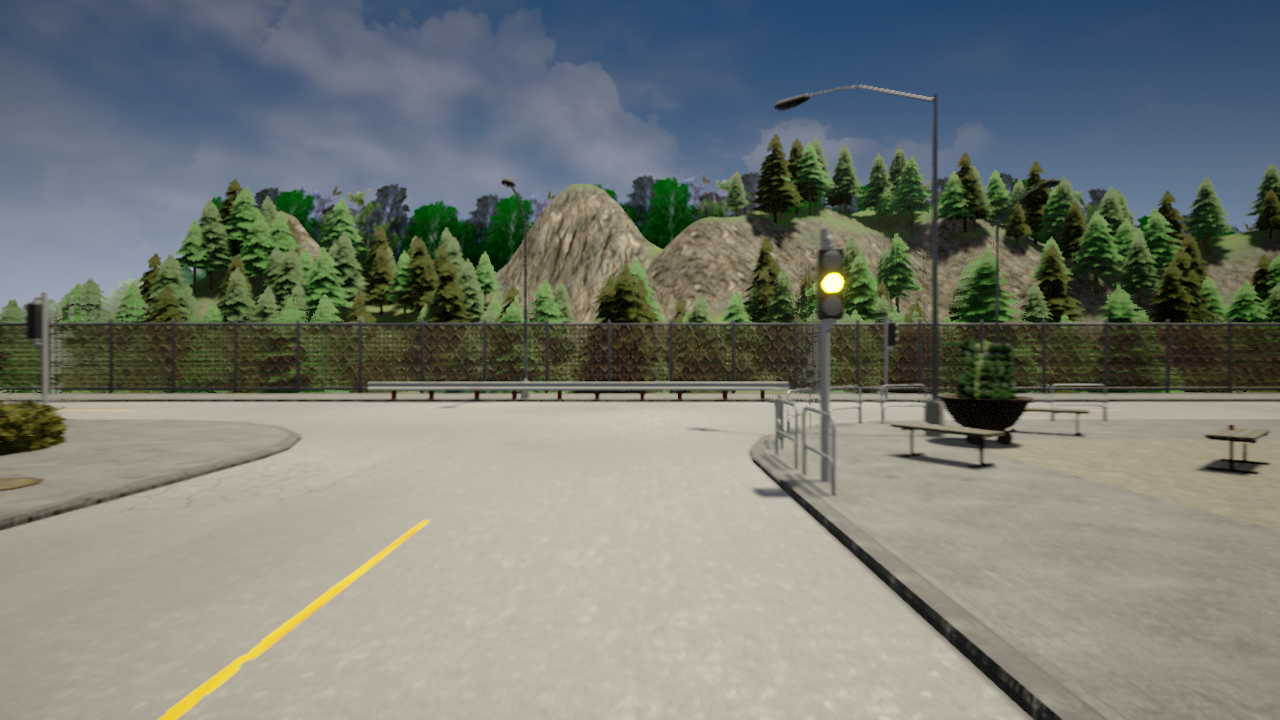yellow: (811, 246, 849, 323)
